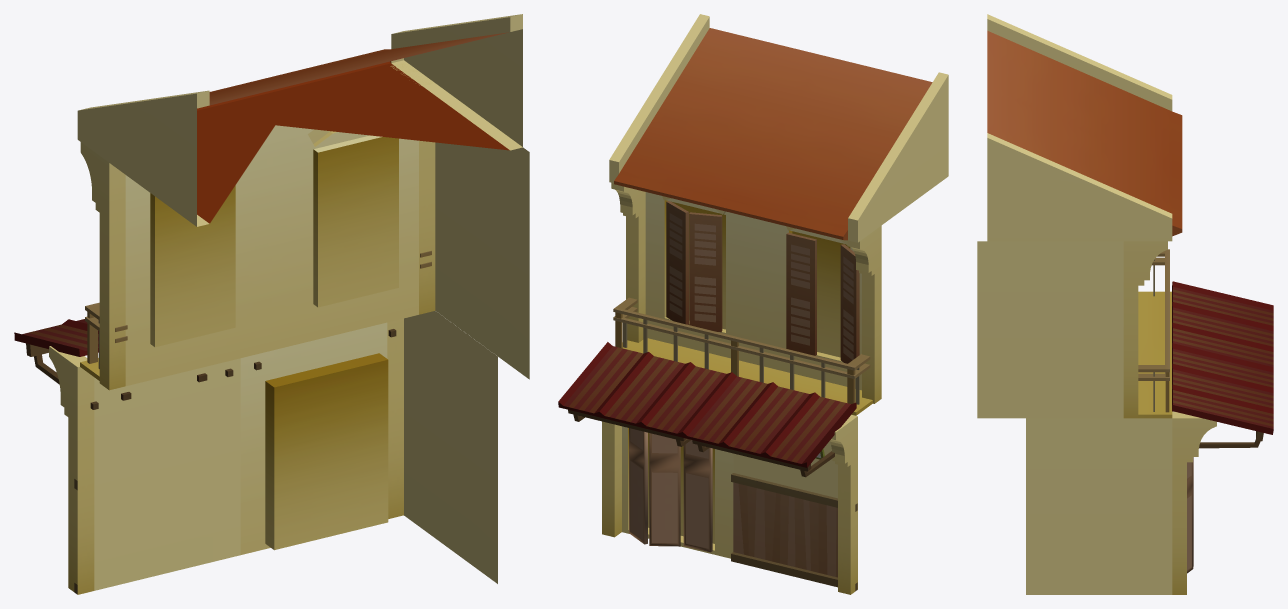
File: SM_Facade_double_fuze_01.fbx
The picture shows the model from 3 angles, left to right: view 1: azimuth 30°, elevation 25°; view 2: azimuth 150°, elevation 25°; view 3: azimuth 270°, elevation 25°; orthographic projection. The views are drawn at different scales.
Parts seen in each view (by area): view 1: SM_Facade_double_fuze_01; view 2: SM_Facade_double_fuze_01; view 3: SM_Facade_double_fuze_01.
Boxes of the visible parts, x1,y1,x2,y2 form: SM_Facade_double_fuze_01: (14,14,529,594); SM_Facade_double_fuze_01: (558,14,948,594); SM_Facade_double_fuze_01: (977,14,1273,594).
Bounding box in the file's own units: 603 × 1035 × 608.
